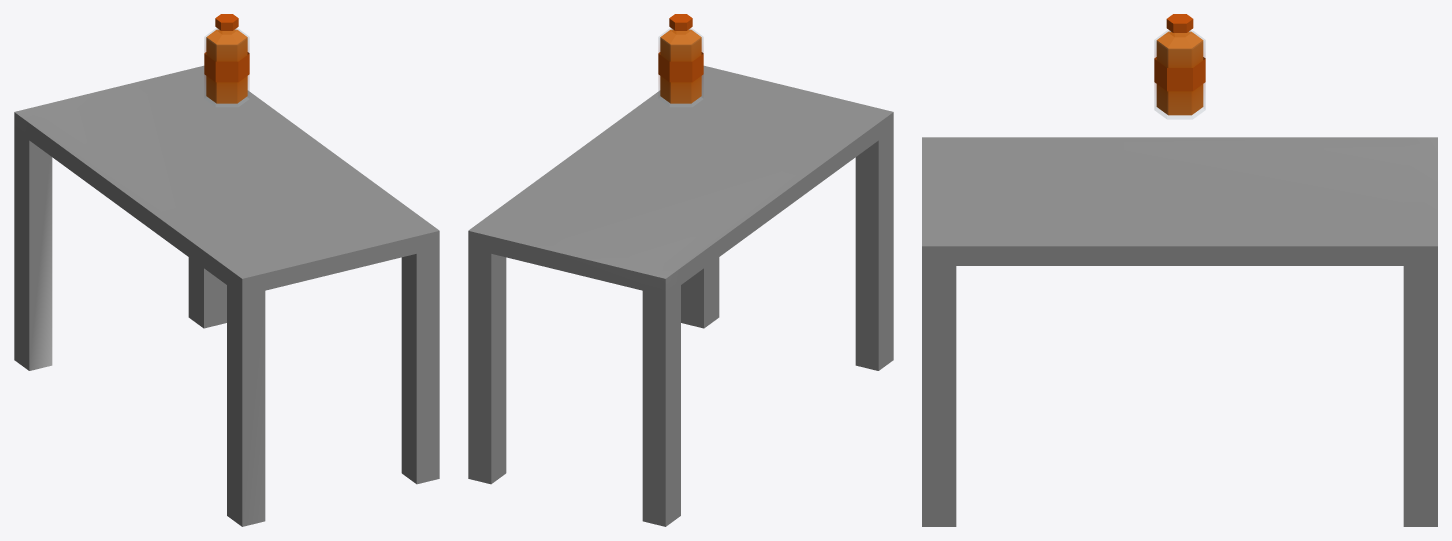
Rendered from Table_Energetics.glb.
3 views of the same model, side by side, from view 1: azimuth 30°, elevation 25°; view 2: azimuth 150°, elevation 25°; view 3: azimuth 270°, elevation 25° (orthographic). The views are drawn at different scales.
Visible parts, largest first — view 1: Cube, botle, liquid; view 2: Cube, botle, liquid; view 3: Cube, botle, liquid.
Part boxes in pixels (x1,y1,x2,y2): Cube: (14, 65, 439, 526); botle: (204, 28, 249, 106); liquid: (206, 29, 247, 103); Cube: (468, 65, 893, 526); botle: (658, 28, 703, 106); liquid: (660, 29, 701, 103); Cube: (922, 137, 1437, 526); botle: (1154, 30, 1205, 119); liquid: (1156, 31, 1203, 115).
Bounding box in the file's own units: 2 × 3.88 × 4.
